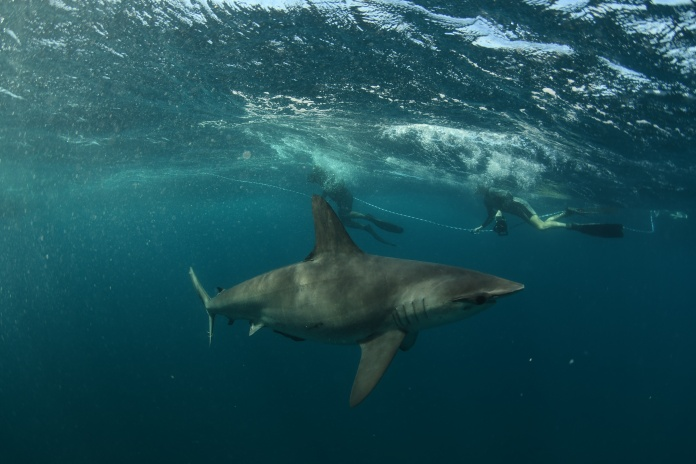Hammer: (164, 187, 529, 401)
